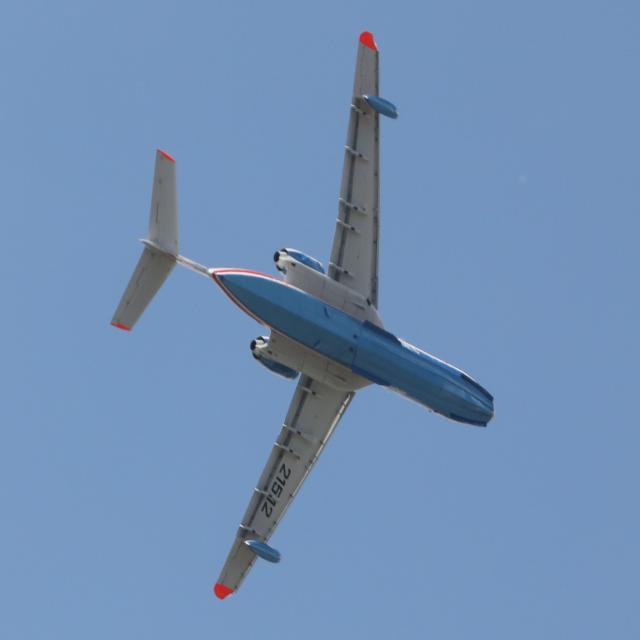MIL_Plane: (109, 31, 496, 600)
